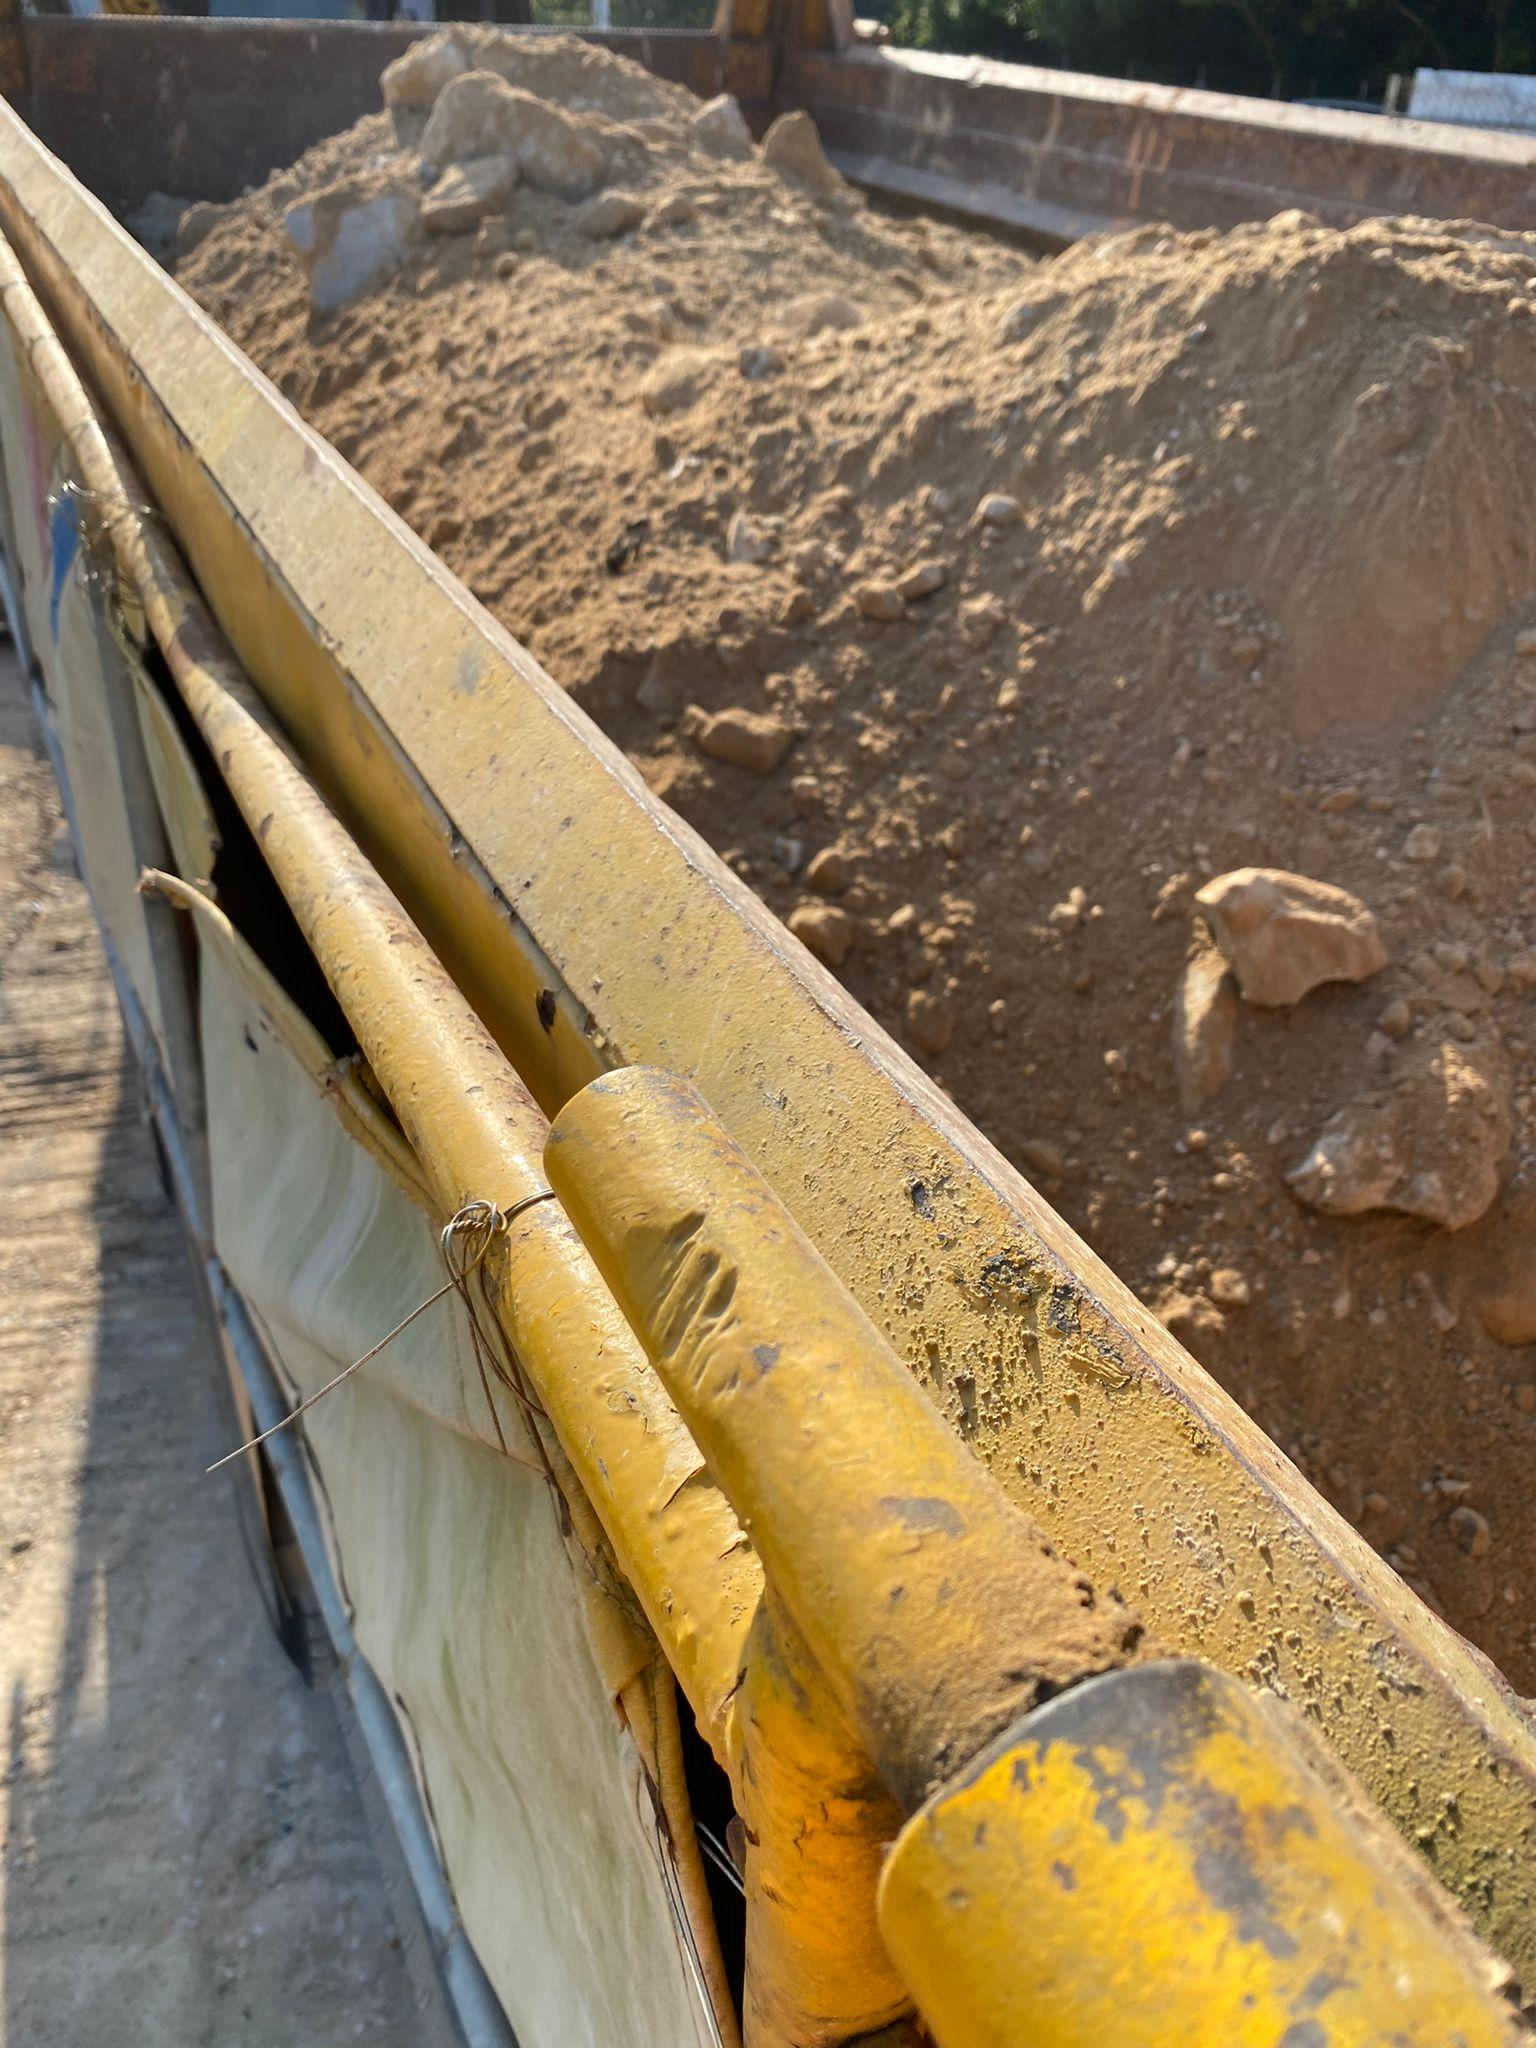dry: (176, 37, 1526, 1674)
